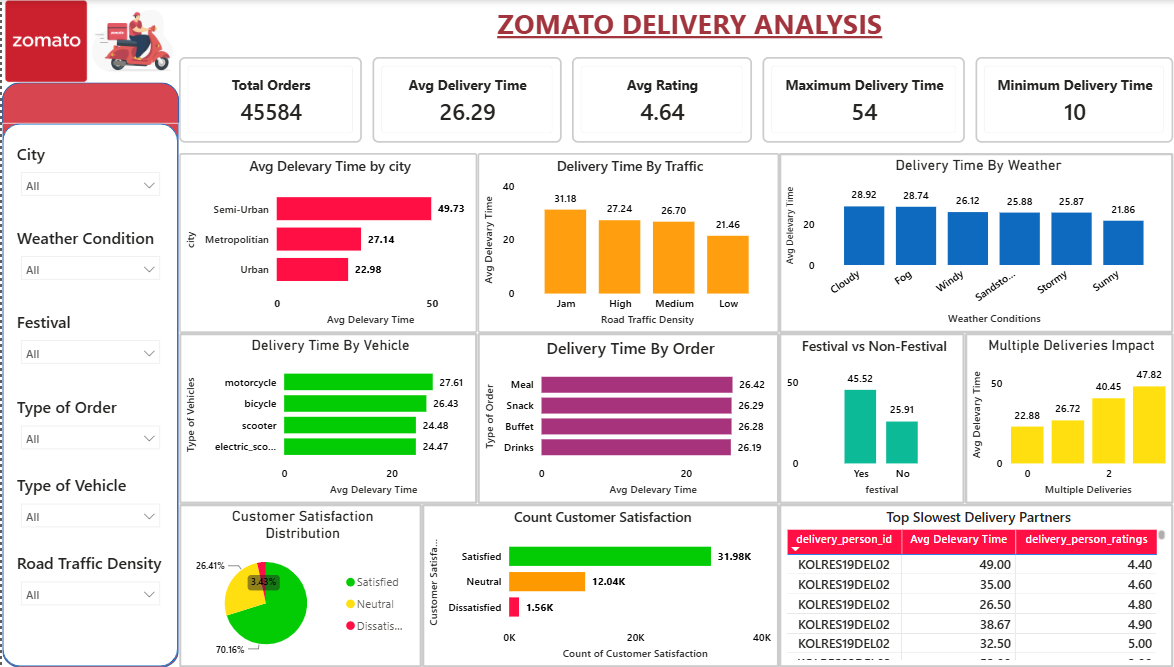

What the dashboard file says about the page in this screenshot:
{"tool":"powerbi","page":{"name":"Overview","canvas":[1366,778],"ordinal":0},"visuals":[{"type":"textbox","box":[238,0,1128.5,66.5],"z":0},{"type":"image","box":[0,0,103.2,96.2],"z":1000},{"type":"image","box":[98,0,108.5,96.2],"z":2000},{"type":"cardVisual","fields":{"Data":["delay_time zomato.Total Orders"]},"box":[206.5,66.5,213.5,99.7],"z":3000},{"type":"cardVisual","fields":{"Data":["delay_time zomato.Avg Delevary Time"]},"box":[432.2,66.5,220.5,99.7],"z":4000},{"type":"cardVisual","fields":{"Data":["delay_time zomato.Maximum Delivery Time"]},"box":[887.1,66.5,236.2,99.7],"z":5000},{"type":"cardVisual","fields":{"Data":["Min(delay_time zomato.time_taken_(min))"]},"box":[1135.5,66.5,231,99.7],"z":6000},{"type":"cardVisual","fields":{"Data":["delay_time zomato.Avg Rating"]},"box":[664.9,66.5,210,99.7],"z":7000},{"type":"clusteredBarChart","fields":{"Category":["delay_time zomato.city"],"Y":["delay_time zomato.Avg Delevary Time"]},"box":[206.5,178.5,348.2,210],"z":8000},{"type":"clusteredColumnChart","title":"Delivery Time By Traffic ","fields":{"Y":["delay_time zomato.Avg Delevary Time"],"Category":["delay_time zomato.road_traffic_density"]},"box":[554.4,178.5,351.7,210],"z":9000},{"type":"clusteredColumnChart","title":"Delivery Time By Weather","fields":{"Y":["delay_time zomato.Avg Delevary Time"],"Category":["delay_time zomato.weather_conditions"]},"box":[905.8,178.5,460.2,210],"z":10000},{"type":"clusteredBarChart","title":" Delivery Time By Vehicle","fields":{"Y":["delay_time zomato.Avg Delevary Time"],"Category":["delay_time zomato.type_of_vehicle"]},"box":[206.5,388.4,348.2,199.5],"z":11000},{"type":"clusteredBarChart","title":"Delivery Time By Order","fields":{"Y":["delay_time zomato.Avg Delevary Time"],"Category":["delay_time zomato.type_of_order"]},"box":[554.6,388.4,351.7,199.5],"z":12000},{"type":"clusteredColumnChart","title":"Festival vs Non-Festival","fields":{"Y":["delay_time zomato.Avg Delevary Time"],"Category":["delay_time zomato.festival"]},"box":[906.3,388.4,217,199.5],"z":13000},{"type":"clusteredColumnChart","title":"Multiple Deliveries Impact","fields":{"Y":["delay_time zomato.Avg Delevary Time"],"Category":["delay_time zomato.multiple_deliveries"]},"box":[1122.8,388.4,243.2,199.5],"z":14000},{"type":"pieChart","title":"Customer Satisfaction Distribution","fields":{"Category":["delay_time zomato.Customer Satisfaction"],"Y":["CountNonNull(delay_time zomato.Customer Satisfaction)"]},"box":[206.5,587.9,283.4,190.7],"z":15000},{"type":"clusteredBarChart","title":"Count  Customer Satisfaction","fields":{"Category":["delay_time zomato.Customer Satisfaction"],"Y":["CountNonNull(delay_time zomato.Customer Satisfaction)"]},"box":[489.9,587.9,416.4,190.7],"z":16000},{"type":"tableEx","title":"Top Slowest Delivery Partners ","fields":{"Values":["delay_time zomato.delivery_person_id","delay_time zomato.Avg Delevary Time","delay_time zomato.delivery_person_ratings"]},"box":[906.3,587.9,460.2,190.7],"z":17000},{"type":"shape","box":[0,96.2,206.5,682.4],"z":18000},{"type":"shape","box":[0,143.5,206.5,635.1],"z":19000},{"type":"slicer","title":"City","fields":{"Values":["delay_time zomato.city"]},"box":[12.2,166.2,182,82.2],"z":21000},{"type":"slicer","title":"Weather Condition","fields":{"Values":["delay_time zomato.weather_conditions"]},"box":[12.2,264.5,182,82.2],"z":21001},{"type":"slicer","title":"Festival","fields":{"Values":["delay_time zomato.festival"]},"box":[12.2,362.9,182,82.2],"z":21002},{"type":"slicer","title":"Type of Order","fields":{"Values":["delay_time zomato.type_of_order"]},"box":[12.2,461.2,182,75.2],"z":21003},{"type":"slicer","title":"Type of Vehicle","fields":{"Values":["delay_time zomato.type_of_vehicle"]},"box":[12.2,552.5,182,75.2],"z":21004},{"type":"slicer","title":"Road Traffic Density","fields":{"Values":["delay_time zomato.road_traffic_density"]},"box":[12.2,643.9,182,80.5],"z":21005}]}

Visuals, with their boxes in screenshot pixels (x1, y1, x2, y2), scaled from the page's 1366x778 canvas onto the 1174x667 screenshot:
textbox: [205, 0, 1173, 57]
image: [0, 0, 89, 82]
image: [84, 0, 177, 82]
cardVisual - delay_time zomato.Total Orders: [177, 57, 361, 142]
cardVisual - delay_time zomato.Avg Delevary Time: [371, 57, 561, 142]
cardVisual - delay_time zomato.Maximum Delivery Time: [762, 57, 965, 142]
cardVisual - Min(delay_time zomato.time_taken_(min)): [976, 57, 1173, 142]
cardVisual - delay_time zomato.Avg Rating: [571, 57, 752, 142]
clusteredBarChart - delay_time zomato.city x delay_time zomato.Avg Delevary Time: [177, 153, 477, 333]
"Delivery Time By Traffic " clusteredColumnChart: [476, 153, 779, 333]
"Delivery Time By Weather" clusteredColumnChart: [778, 153, 1173, 333]
" Delivery Time By Vehicle" clusteredBarChart: [177, 333, 477, 504]
"Delivery Time By Order" clusteredBarChart: [477, 333, 779, 504]
"Festival vs Non-Festival" clusteredColumnChart: [779, 333, 965, 504]
"Multiple Deliveries Impact" clusteredColumnChart: [965, 333, 1173, 504]
"Customer Satisfaction Distribution" pieChart: [177, 504, 421, 666]
"Count  Customer Satisfaction" clusteredBarChart: [421, 504, 779, 666]
"Top Slowest Delivery Partners " tableEx: [779, 504, 1173, 666]
shape: [0, 82, 177, 666]
shape: [0, 123, 177, 666]
"City" slicer: [10, 142, 167, 213]
"Weather Condition" slicer: [10, 227, 167, 297]
"Festival" slicer: [10, 311, 167, 382]
"Type of Order" slicer: [10, 395, 167, 460]
"Type of Vehicle" slicer: [10, 474, 167, 538]
"Road Traffic Density" slicer: [10, 552, 167, 621]
